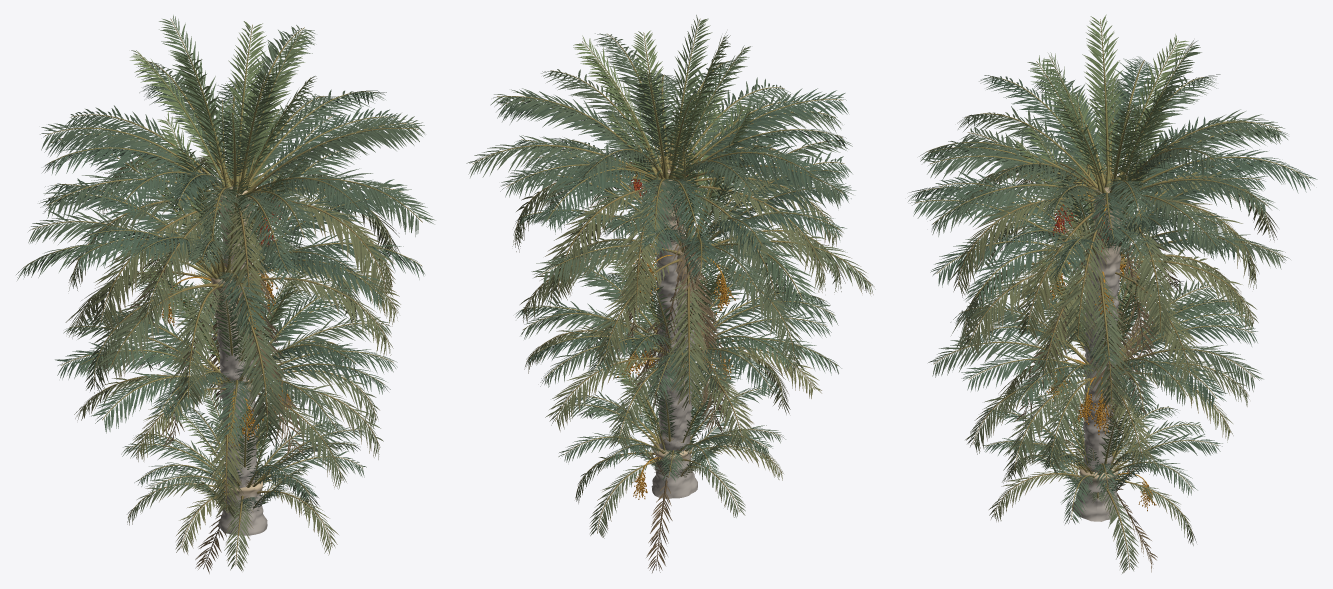
Rendered from plants-near.glb.
3 renders of one model, left to right at view 1: azimuth 30°, elevation 25°; view 2: azimuth 150°, elevation 25°; view 3: azimuth 270°, elevation 25°, orthographic. The views are drawn at different scales.
Parts seen in each view (by area): view 1: palm_c-crown-0, palm_b-crown-0, palm_g-crown-0, young_a-crown-0, palm_b-trunk-0, shoot_b-crown-0, young_a-trunk-0, palm_c-trunk-0; view 2: palm_c-crown-0, palm_b-crown-0, palm_g-crown-0, young_a-crown-0, palm_c-trunk-0, shoot_b-crown-0, young_a-trunk-0, palm_b-trunk-0, palm_g-trunk-0, palm_b-fruit-0; view 3: palm_c-crown-0, palm_b-crown-0, palm_g-crown-0, young_a-crown-0, palm_c-trunk-0, shoot_b-crown-0, young_a-trunk-0, palm_g-fruit-0.
Boxes of the visible parts, <box> form: palm_c-crown-0: <box>39,15,435,381</box>; palm_b-crown-0: <box>16,96,424,459</box>; palm_g-crown-0: <box>55,241,397,518</box>; young_a-crown-0: <box>121,377,366,573</box>; palm_b-trunk-0: <box>210,269,254,487</box>; shoot_b-crown-0: <box>175,443,308,516</box>; young_a-trunk-0: <box>218,477,267,535</box>; palm_c-trunk-0: <box>219,186,258,532</box>; palm_c-crown-0: <box>466,15,853,353</box>; palm_b-crown-0: <box>510,87,875,434</box>; palm_g-crown-0: <box>515,226,841,450</box>; young_a-crown-0: <box>557,347,785,572</box>; palm_c-trunk-0: <box>652,169,686,450</box>; shoot_b-crown-0: <box>610,405,743,477</box>; young_a-trunk-0: <box>651,442,697,498</box>; palm_b-trunk-0: <box>674,250,702,444</box>; palm_g-trunk-0: <box>661,353,689,451</box>; palm_b-fruit-0: <box>633,244,735,314</box>; palm_c-crown-0: <box>919,14,1317,361</box>; palm_b-crown-0: <box>908,89,1290,434</box>; palm_g-crown-0: <box>928,232,1263,479</box>; young_a-crown-0: <box>982,371,1222,573</box>; palm_c-trunk-0: <box>1083,186,1125,472</box>; shoot_b-crown-0: <box>1027,428,1165,502</box>; young_a-trunk-0: <box>1072,464,1120,521</box>; palm_g-fruit-0: <box>1046,359,1113,434</box>.
Size of the model in its own units: 6.52 by 9.61 by 6.74.
